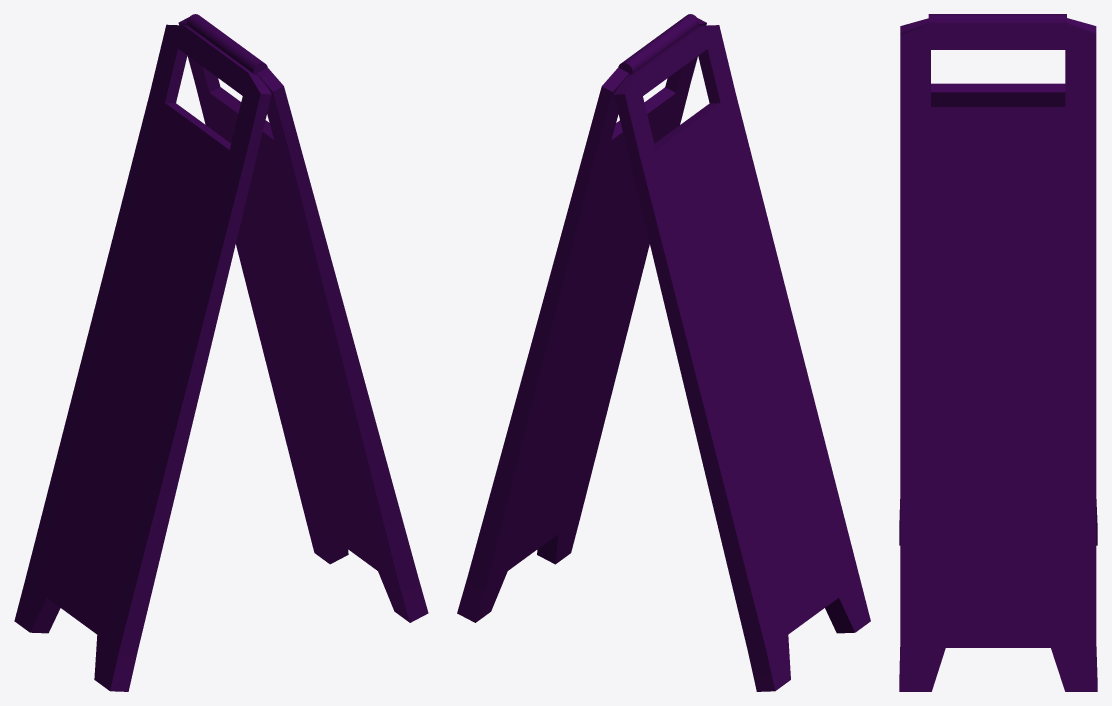
The model's file is WetFloorSign.fbx.
The picture shows the model from 3 angles, left to right: view 1: azimuth 30°, elevation 25°; view 2: azimuth 150°, elevation 25°; view 3: azimuth 270°, elevation 25°; orthographic projection. The views are drawn at different scales.
Visible parts, largest first — view 1: Hazard_Sign; view 2: Hazard_Sign; view 3: Hazard_Sign.
Part boxes in pixels (x1,y1,x2,y2): Hazard_Sign: (14,14,428,691); Hazard_Sign: (457,14,870,691); Hazard_Sign: (899,14,1097,691).
Bounding box in the file's own units: 47.87 × 83.68 × 24.91.
